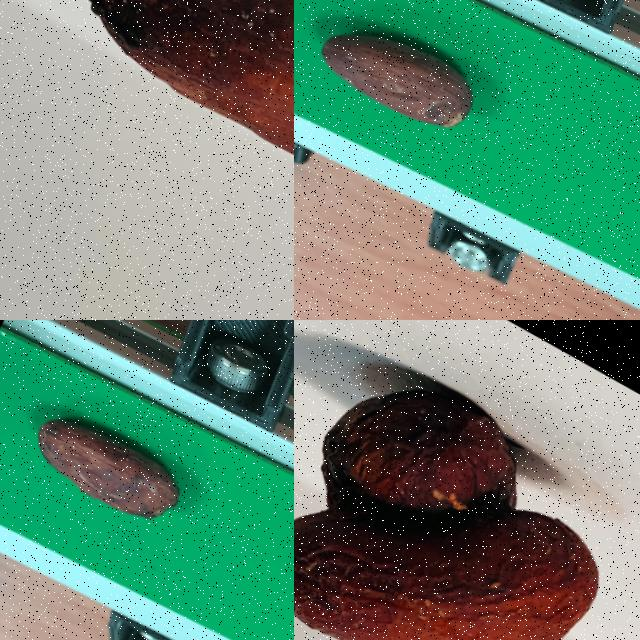Agglomerated_cocoabeans: (294, 320, 639, 639)
Fine_cocoabeans: (0, 0, 293, 319), (294, 0, 610, 219), (0, 342, 275, 586)
